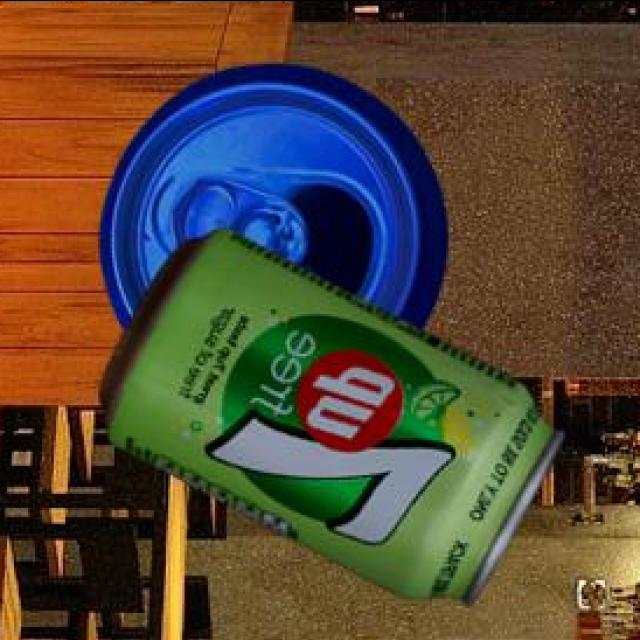logam: (104, 230, 566, 608), (104, 67, 452, 333)
